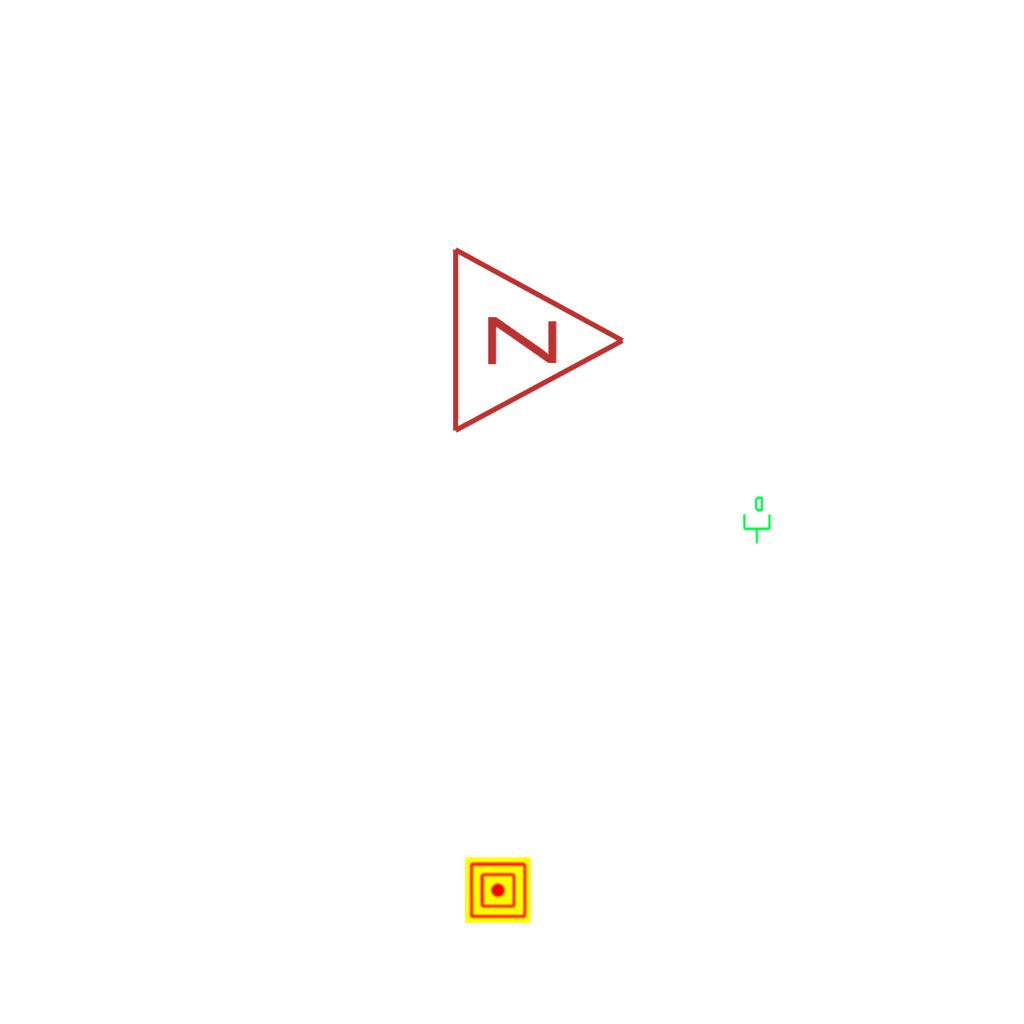Datenanschluss_einfach: (739, 495, 773, 545)
NAM-Nichtautomatischer_Melder: (465, 857, 531, 923)
Zimmersignalleuchte: (438, 240, 638, 436)
